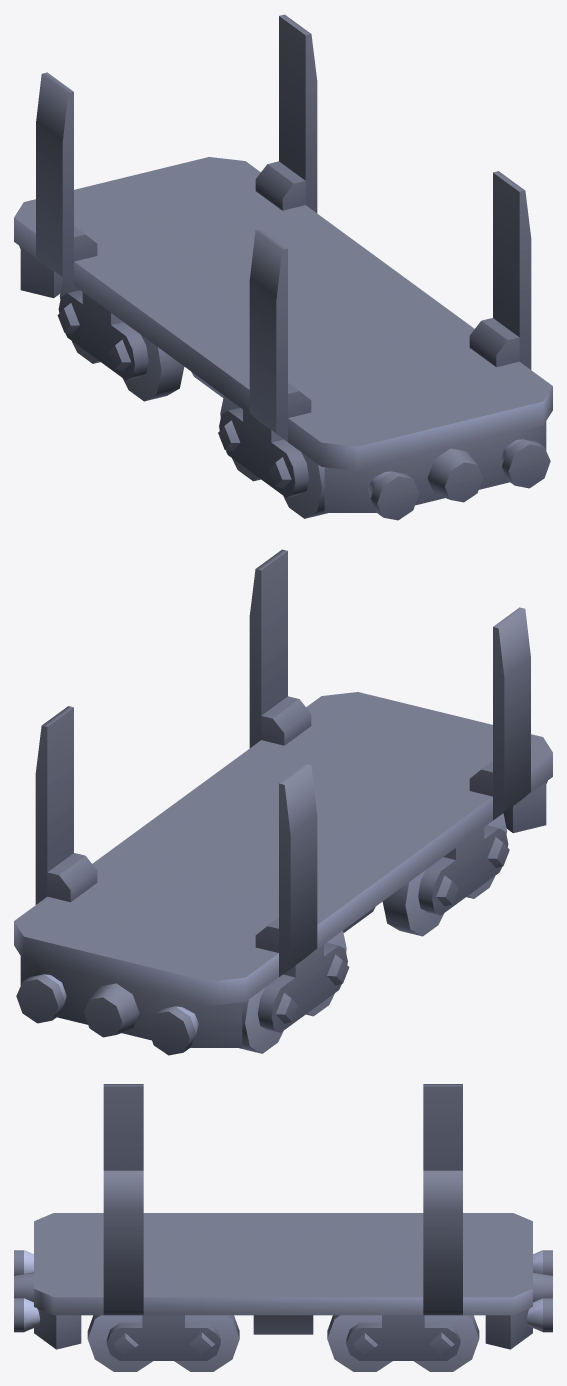
Rendered from train-carriage-flatbed.glb.
The picture shows the model from 3 angles, top to bottom: view 1: azimuth 30°, elevation 25°; view 2: azimuth 150°, elevation 25°; view 3: azimuth 270°, elevation 25°; orthographic projection. The views are drawn at different scales.
Visible parts, largest first — view 1: train-carriage-flatbed; view 2: train-carriage-flatbed; view 3: train-carriage-flatbed.
Part boxes in pixels (<box>): train-carriage-flatbed: <box>14,14,552,520</box>; train-carriage-flatbed: <box>14,549,552,1055</box>; train-carriage-flatbed: <box>14,1084,552,1371</box>.
Size of the model in its own units: 1.1 by 1.16 by 2.7.
Materials: 1 (1 with a texture image).
